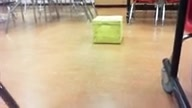cube: (92, 16, 123, 44)
